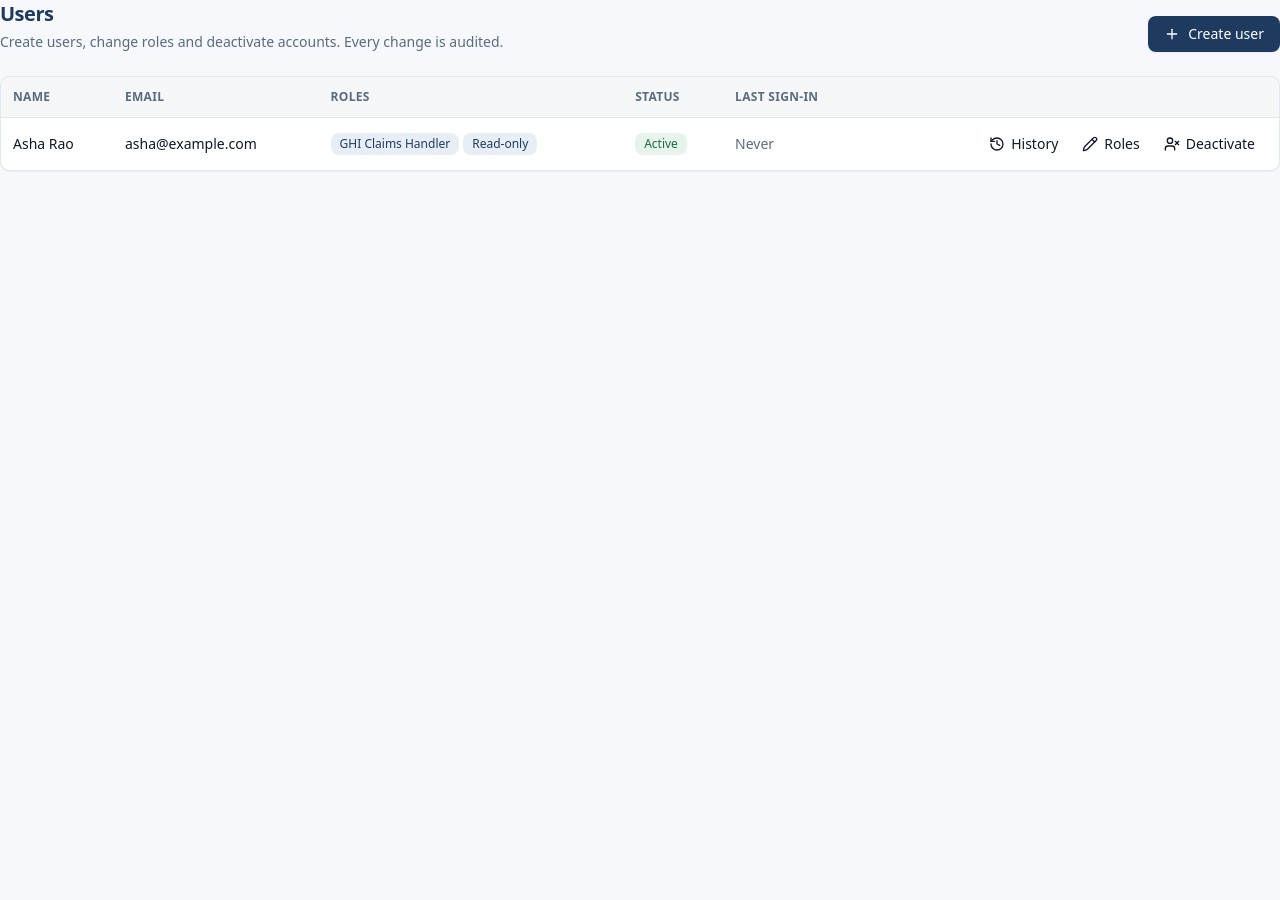
Test: UsersView › shows the API’s refusal when a role grants more than the administrator holds
Click the button with aria-label "Change roles for Asha Rao" at (1111, 144), box [1070,128,1152,160]
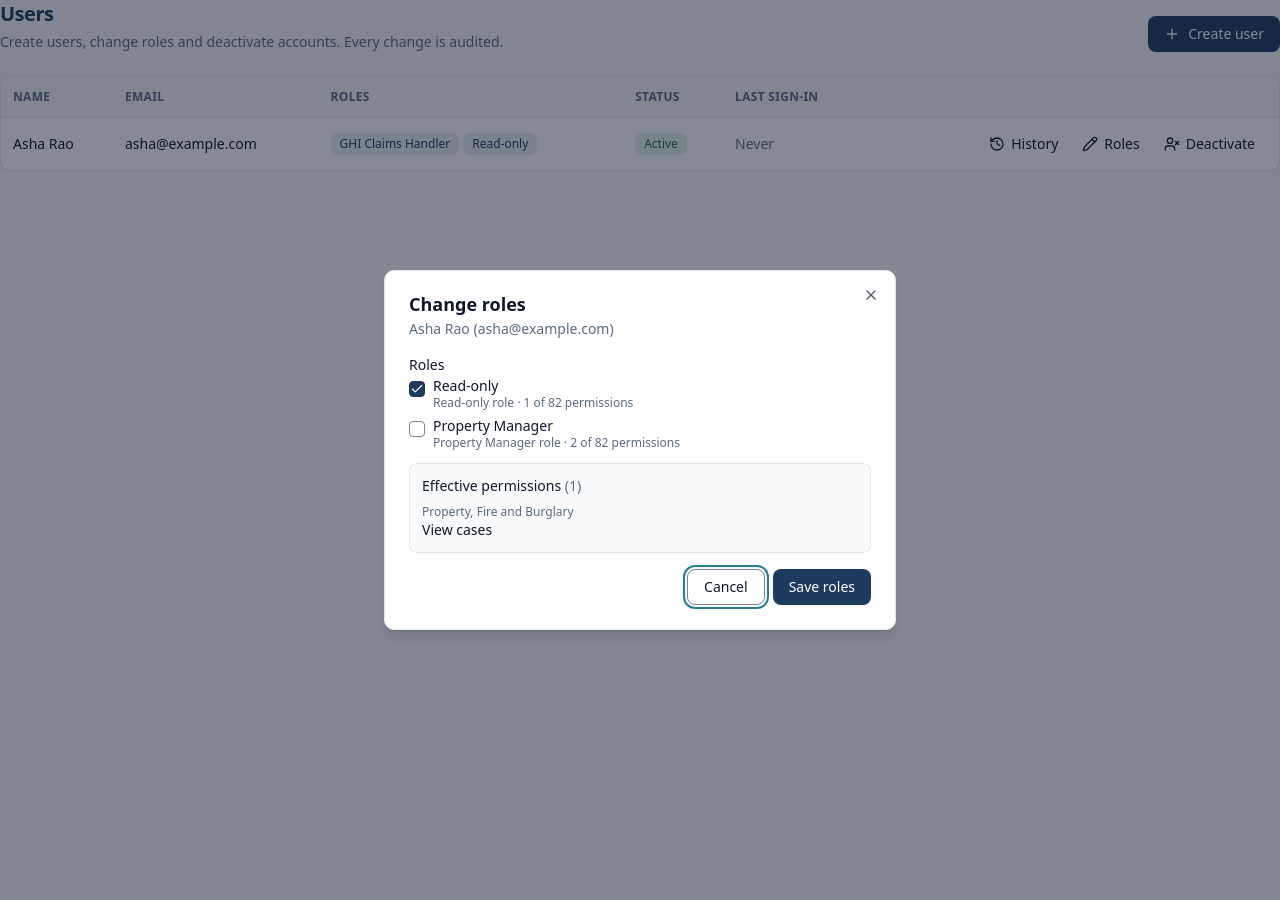
Click the checkbox named "Property Manager" next to "Property Manager role" at (417, 429), box [409,421,425,437]
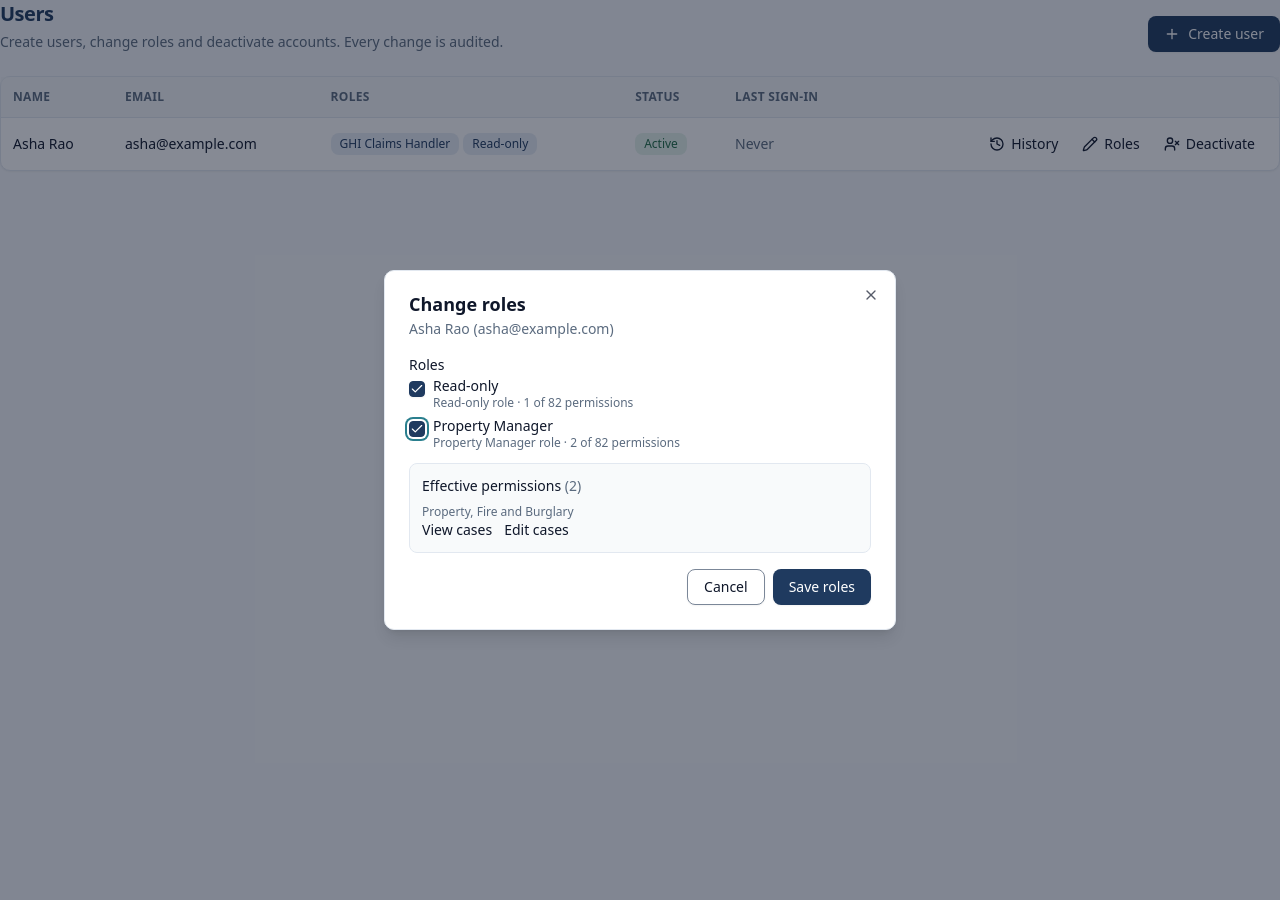
Click the button "Save roles" at (822, 587), box [773,569,871,605]
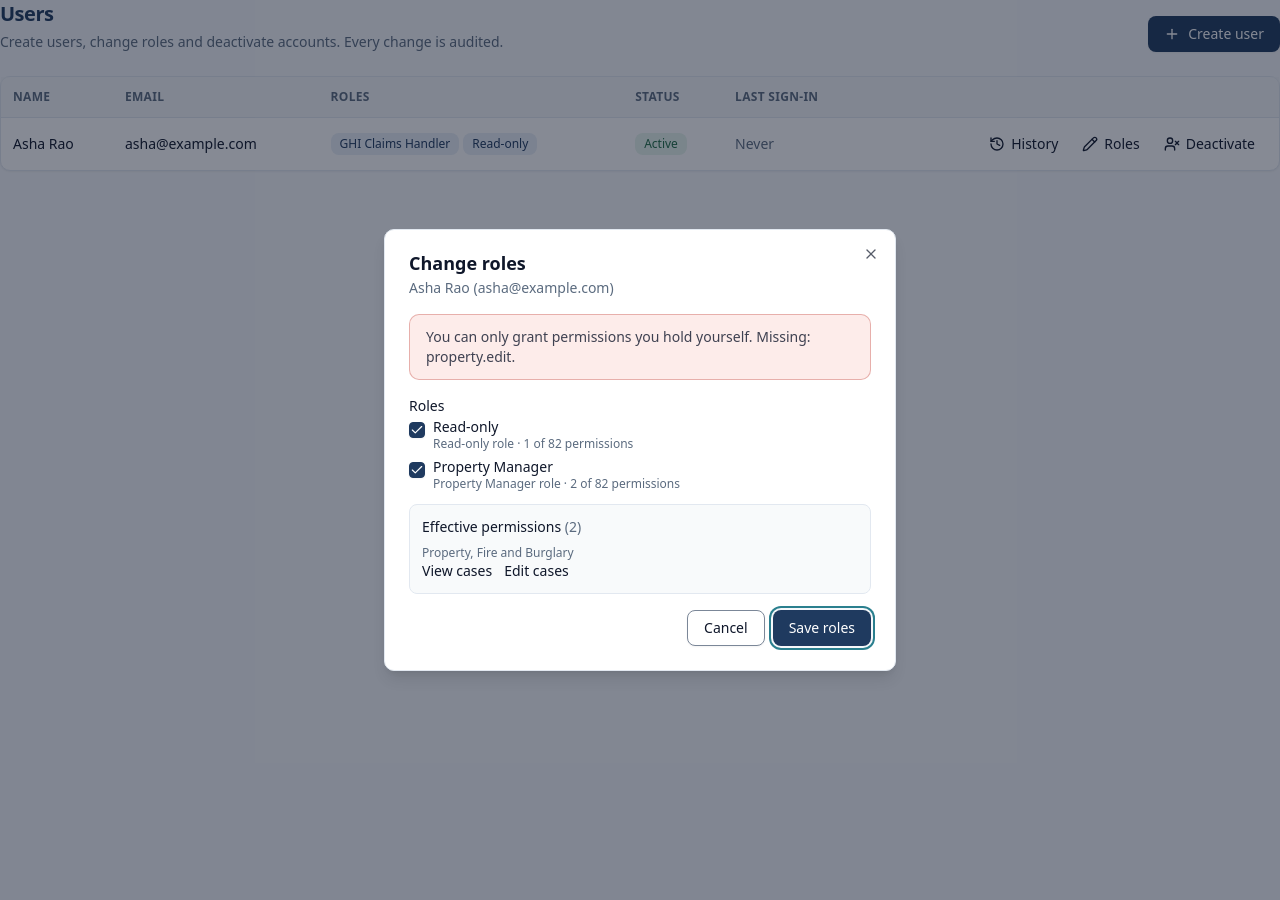
Result: the message shows "You can only grant permissions you hold yourself" at [426,327,811,366]
